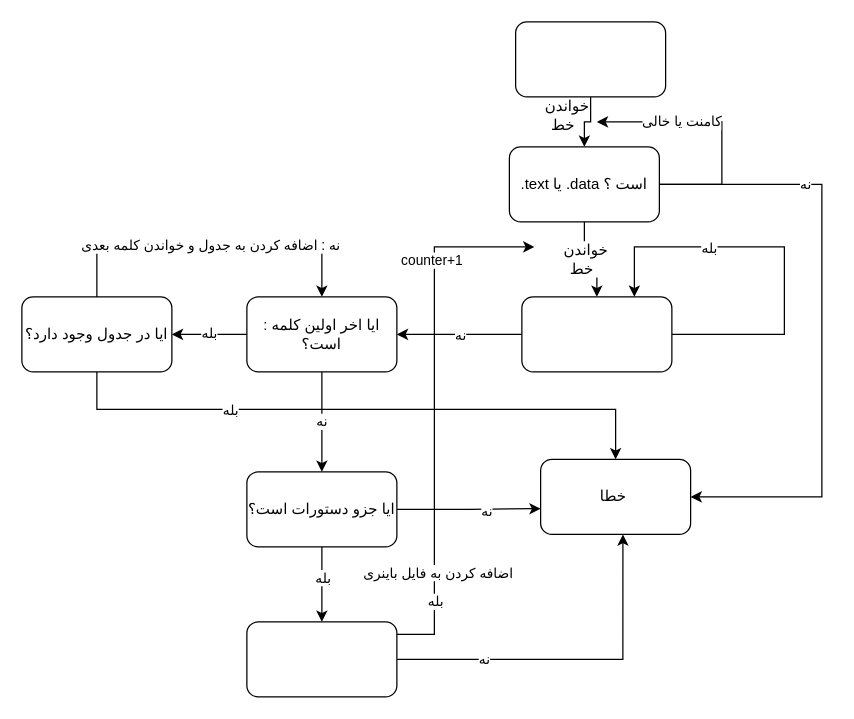
Some shapes in this 854 by 719 pixel diagram are drawn without their labels. The shapes that lost their labels are listed below. From the top down, each one's centre as x and y in pixels, then its label:
(590,59): باز کردن و خواندن فایل
(596,334): کامنت یا خالی است
(321,659): ایا رجیستر ها درست بوده و بعد از پایان چیز دیگری وجود ندارد بجز کامنت؟
